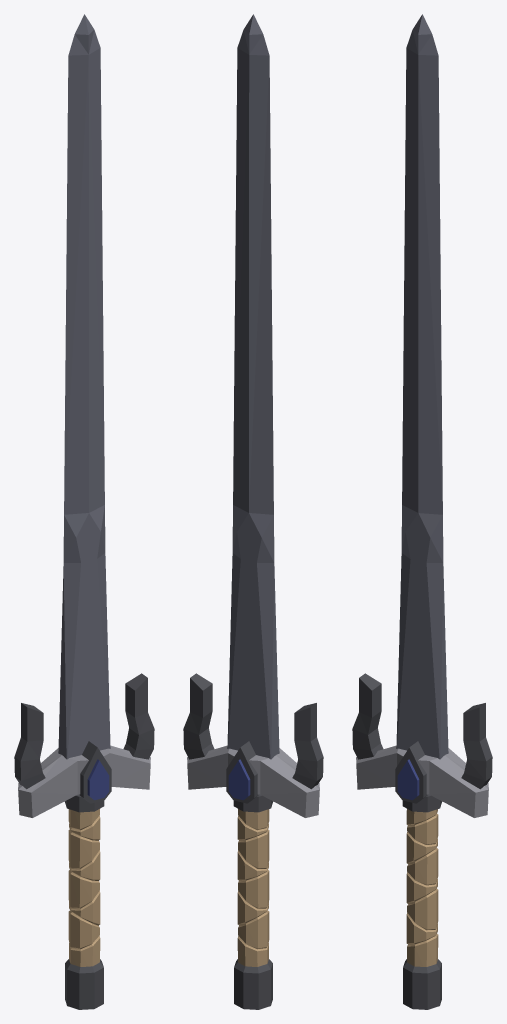
File: _sword_13.fbx
3 renders of one model, left to right at view 1: azimuth 30°, elevation 25°; view 2: azimuth 150°, elevation 25°; view 3: azimuth 330°, elevation 25°, orthographic.
Visible parts, largest first — view 1: sword_13; view 2: sword_13; view 3: sword_13.
Boxes of the visible parts, x1,y1,x2,y2 form: sword_13: (14, 14, 154, 1009); sword_13: (183, 14, 323, 1009); sword_13: (352, 14, 492, 1009).
Bounding box in the file's own units: 19.87 × 140 × 7.7.
